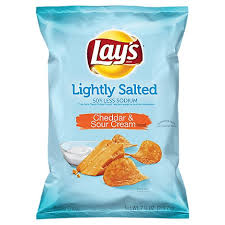lays-small: (35, 4, 191, 217)
